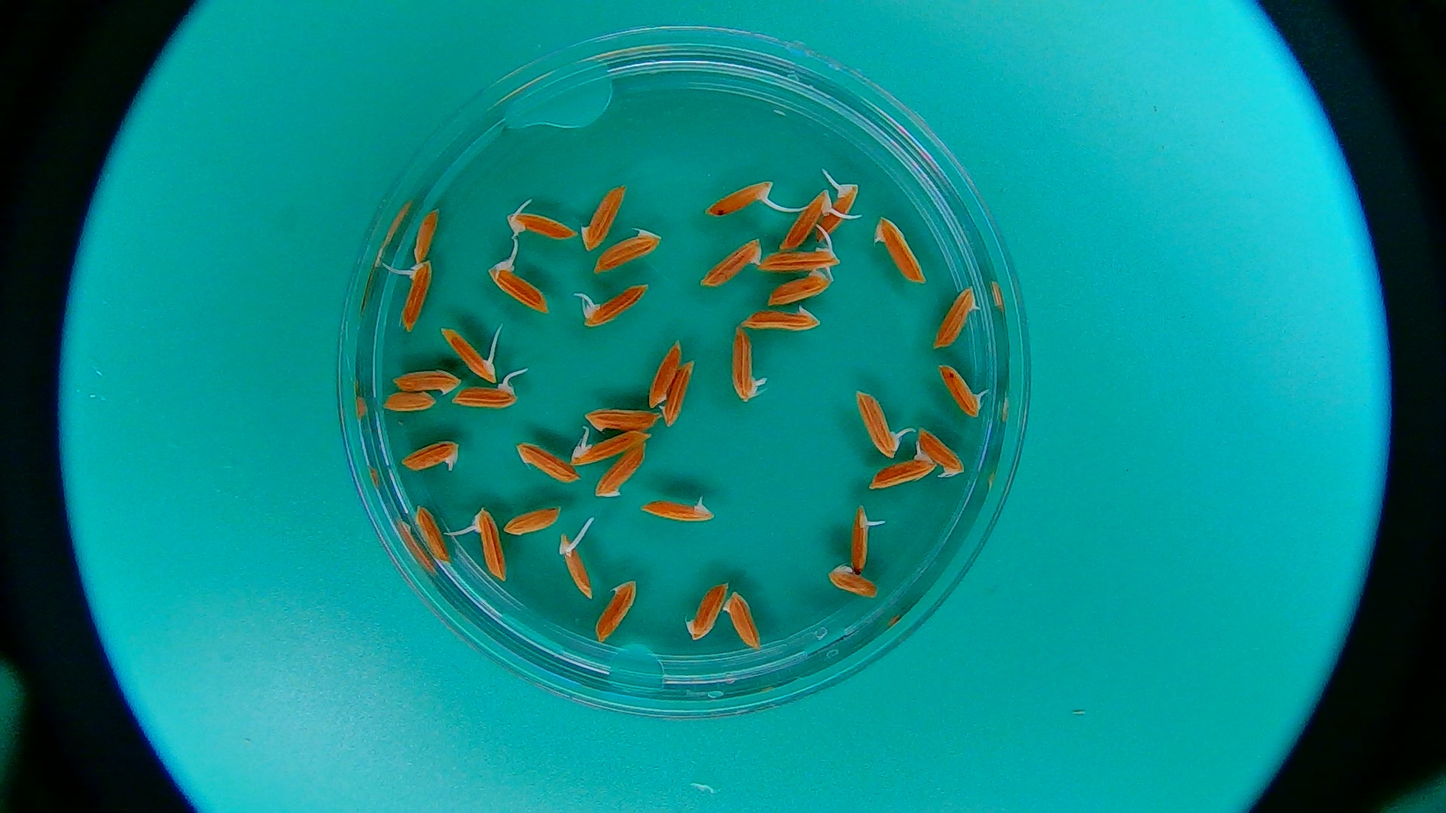no: (874, 215, 929, 282), (590, 227, 663, 273), (697, 238, 762, 288), (579, 184, 625, 251), (683, 580, 725, 644), (596, 580, 636, 646), (517, 443, 578, 483), (743, 303, 822, 333), (411, 503, 449, 565), (763, 271, 834, 303), (596, 452, 643, 499), (724, 591, 761, 650), (386, 367, 463, 395), (662, 359, 693, 426), (827, 561, 880, 599), (648, 340, 678, 406), (584, 407, 663, 432), (505, 504, 563, 537), (412, 206, 439, 261), (380, 391, 435, 412)
yes: (438, 327, 501, 386), (932, 289, 986, 351), (573, 285, 650, 327), (569, 428, 656, 465), (486, 263, 546, 314), (855, 394, 899, 460), (936, 358, 986, 416), (914, 425, 966, 478), (868, 451, 935, 492), (710, 178, 775, 218), (505, 203, 577, 239), (786, 192, 833, 247), (557, 531, 594, 600), (761, 238, 838, 270), (820, 178, 859, 240), (452, 376, 517, 413), (399, 437, 461, 475), (477, 507, 508, 582), (400, 262, 432, 332), (732, 325, 761, 402), (638, 497, 716, 525), (851, 507, 878, 574)
